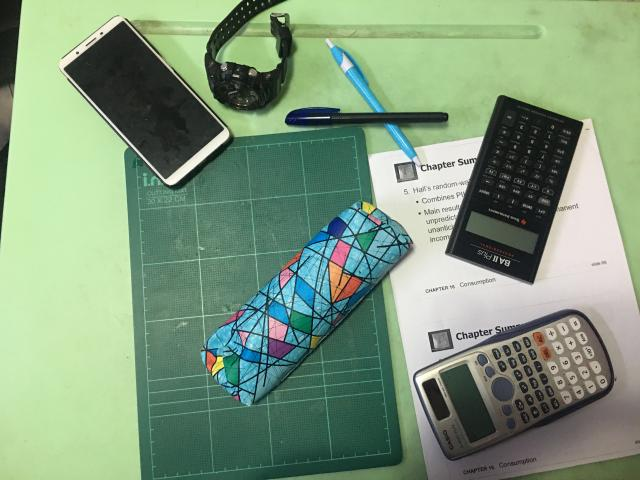Mobile phone: (57, 17, 234, 190)
Pen: (288, 41, 450, 167)
Watch: (205, 0, 296, 113)
paper: (368, 119, 640, 480)
